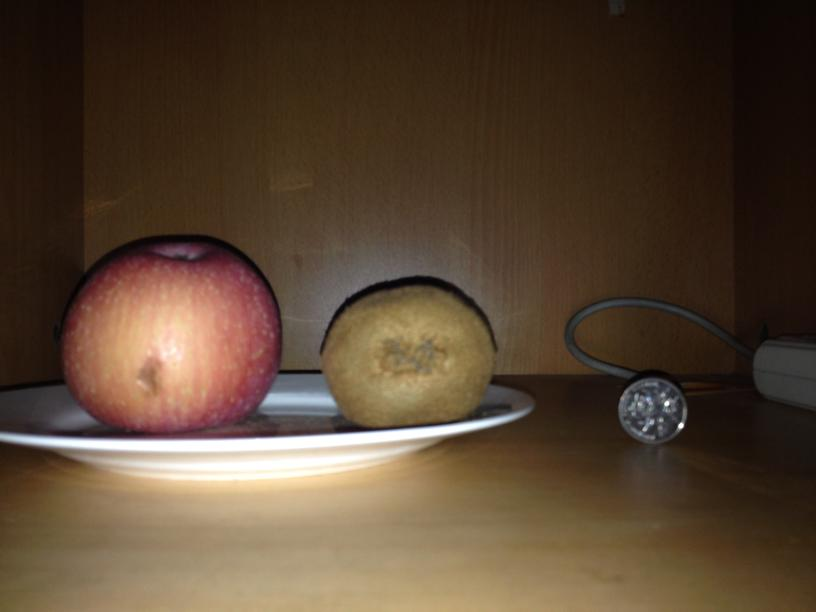apple: (63, 235, 283, 432)
coin: (617, 376, 687, 446)
qiwi: (322, 284, 496, 424)
